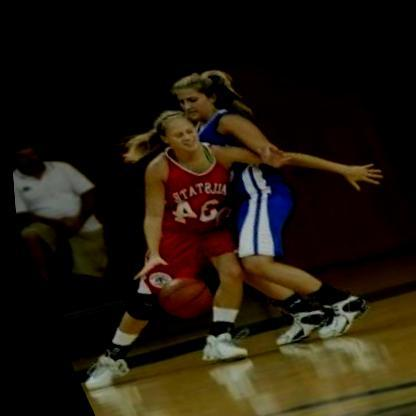basketball: (140, 251, 223, 334)
